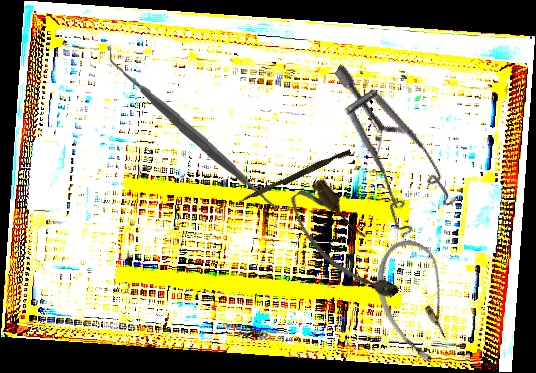Cannula: (280, 174, 408, 317), (361, 231, 473, 371)
Pusher: (237, 146, 352, 208)
Spatula Surgical: (104, 46, 283, 223)
Speculum: (280, 64, 486, 251)
